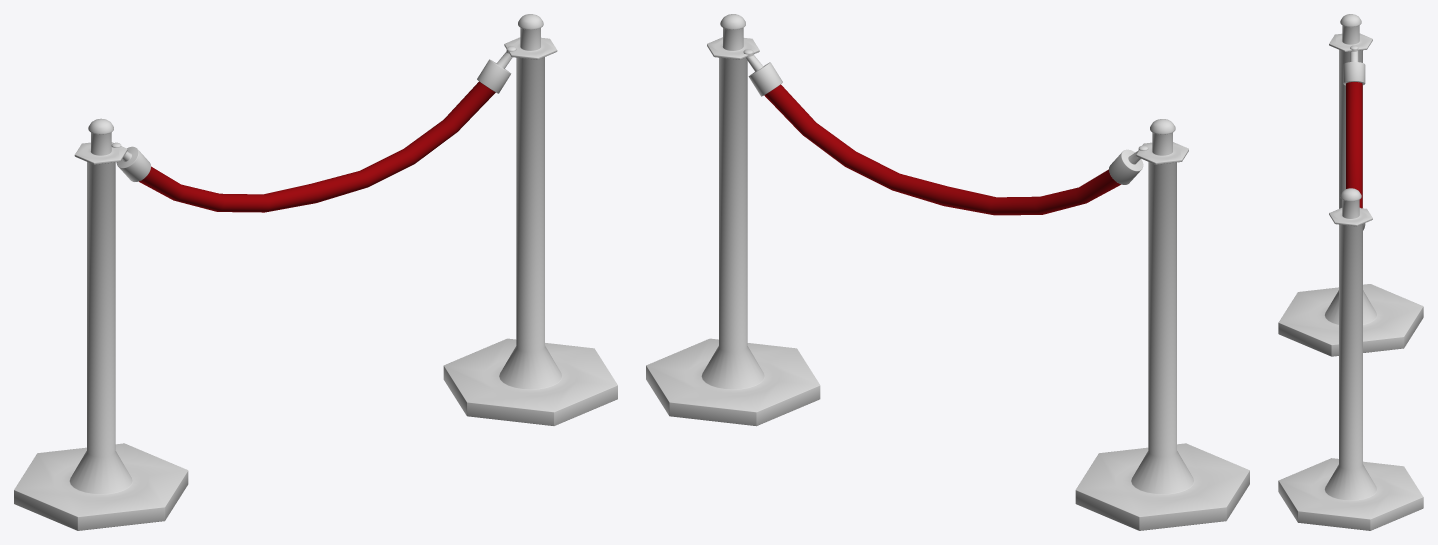
Rendered from Bollards.glb.
3 renders of one model, left to right at view 1: azimuth 30°, elevation 25°; view 2: azimuth 150°, elevation 25°; view 3: azimuth 270°, elevation 25°, orthographic. The views are drawn at different scales.
Parts seen in each view (by area): view 1: Bollards; view 2: Bollards; view 3: Bollards.
Part boxes in pixels (bbox=[...]): Bollards: bbox=[14, 14, 617, 530]; Bollards: bbox=[646, 14, 1249, 530]; Bollards: bbox=[1278, 14, 1423, 530].
Size of the model in its own units: 4.2 by 2.59 by 1.09.
